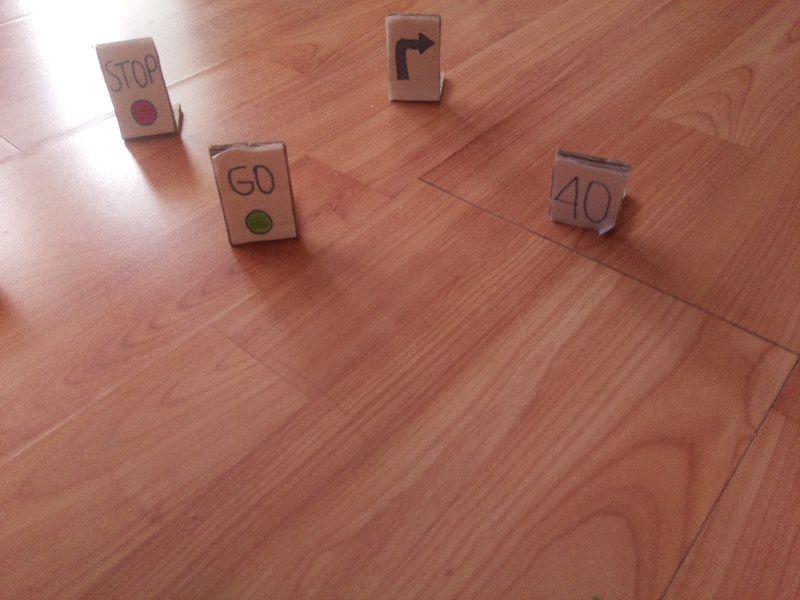40: (554, 165, 614, 227)
go: (224, 161, 283, 234)
stop: (104, 50, 166, 127)
turn right: (394, 27, 438, 89)
